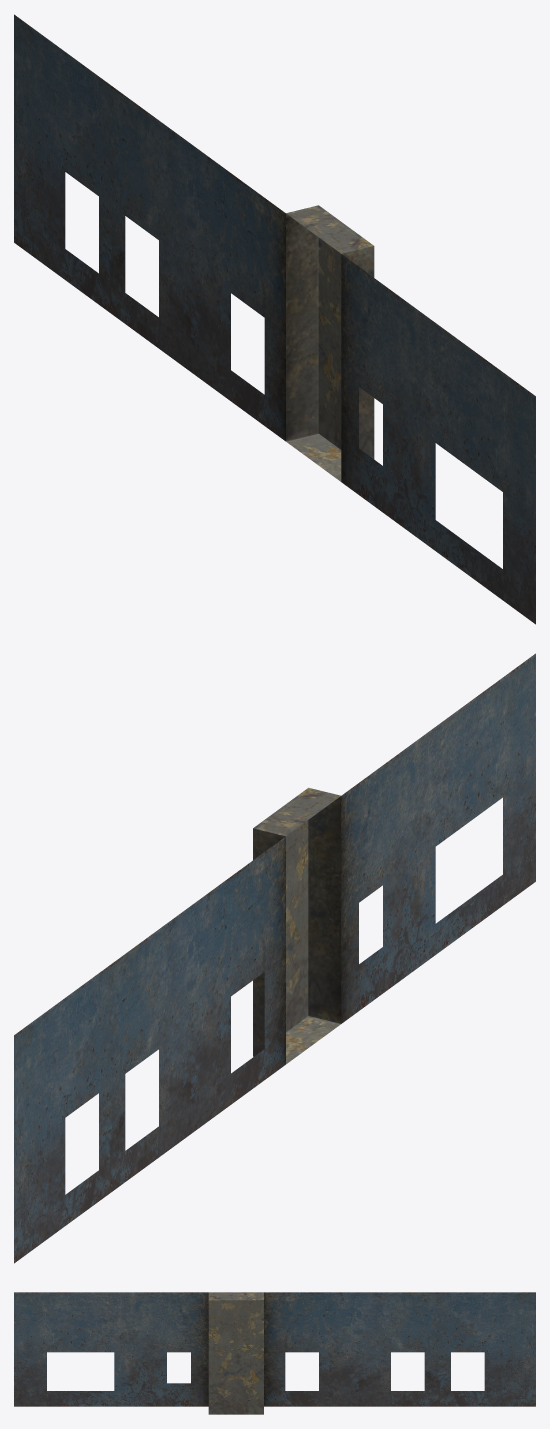
File: Wall_01.FBX
3 views of the same model, one above another, from view 1: azimuth 30°, elevation 25°; view 2: azimuth 150°, elevation 25°; view 3: azimuth 270°, elevation 25° (orthographic). The views are drawn at different scales.
Parts seen in each view (by area): view 1: Wall_01; view 2: Wall_01; view 3: Wall_01.
Boxes of the visible parts, bbox=[...] form: Wall_01: bbox=[14, 14, 535, 624]; Wall_01: bbox=[14, 653, 535, 1263]; Wall_01: bbox=[14, 1292, 535, 1414].
Size of the model in its own units: 77.13 by 511 by 2118.
